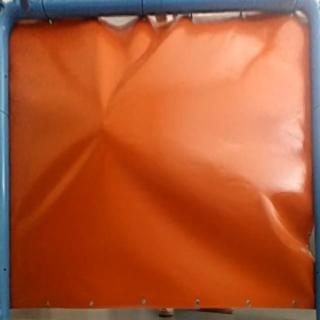Hit-hRxx: (95, 114, 113, 134)
